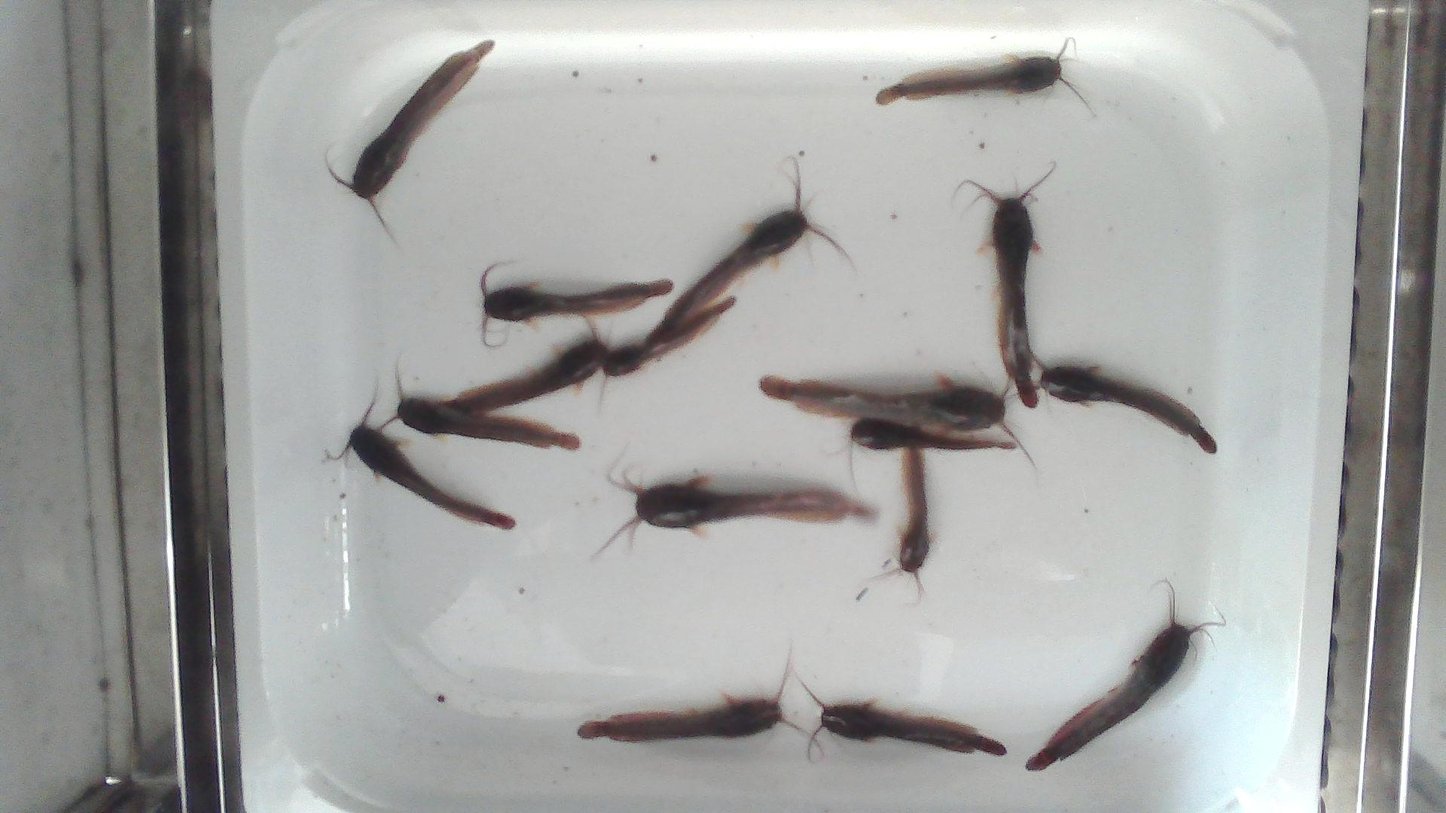lele: (652, 161, 854, 338), (323, 42, 493, 244), (1025, 598, 1208, 769), (967, 165, 1060, 406), (340, 406, 516, 528), (600, 471, 875, 548), (1031, 354, 1216, 452), (758, 370, 1010, 436), (441, 318, 608, 414), (384, 372, 581, 453), (876, 38, 1093, 110), (801, 683, 1006, 756), (476, 267, 672, 339), (578, 677, 784, 741), (601, 294, 735, 380), (852, 419, 1014, 449), (898, 447, 930, 579)
